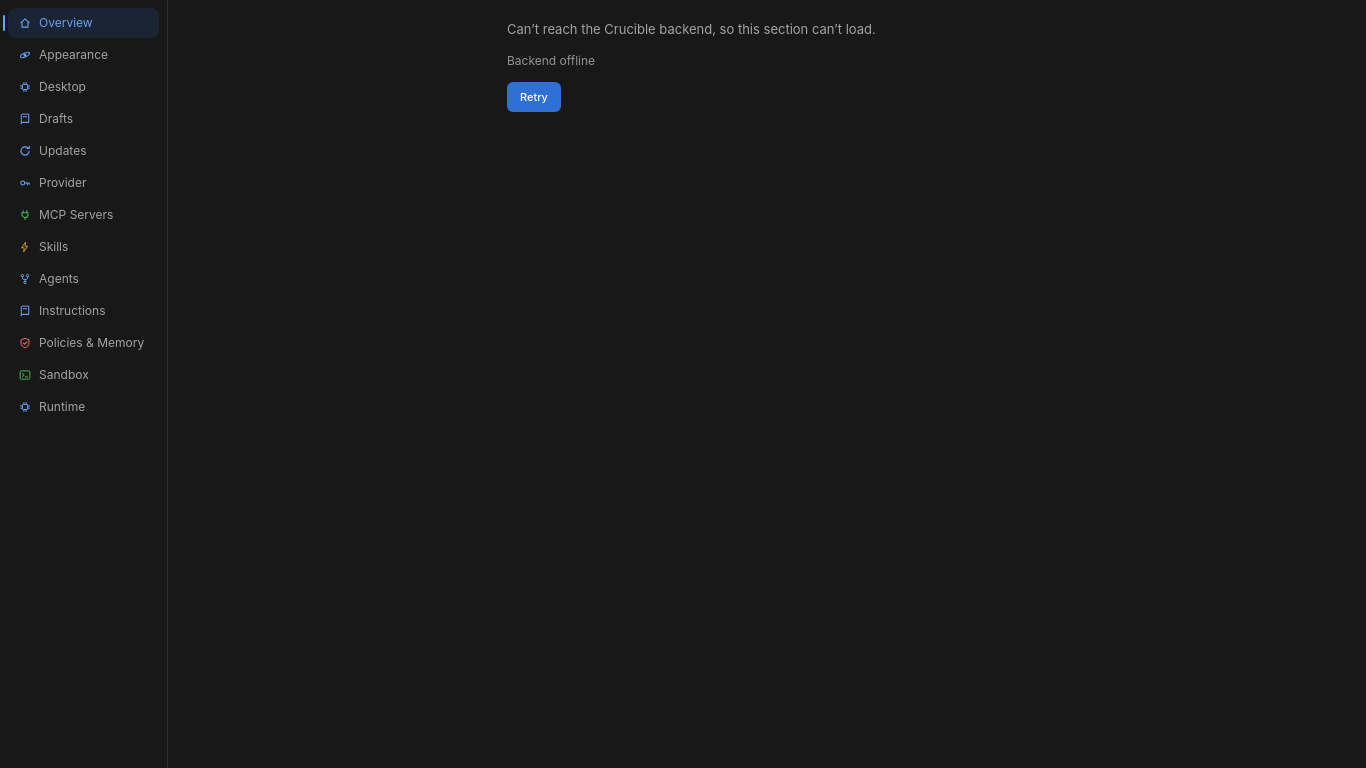
desktop draft settings placement › allows local Drafts offline and leaves VS Code unchanged
Click the button "Drafts".
click(84, 119)  # box [8,104,159,134]
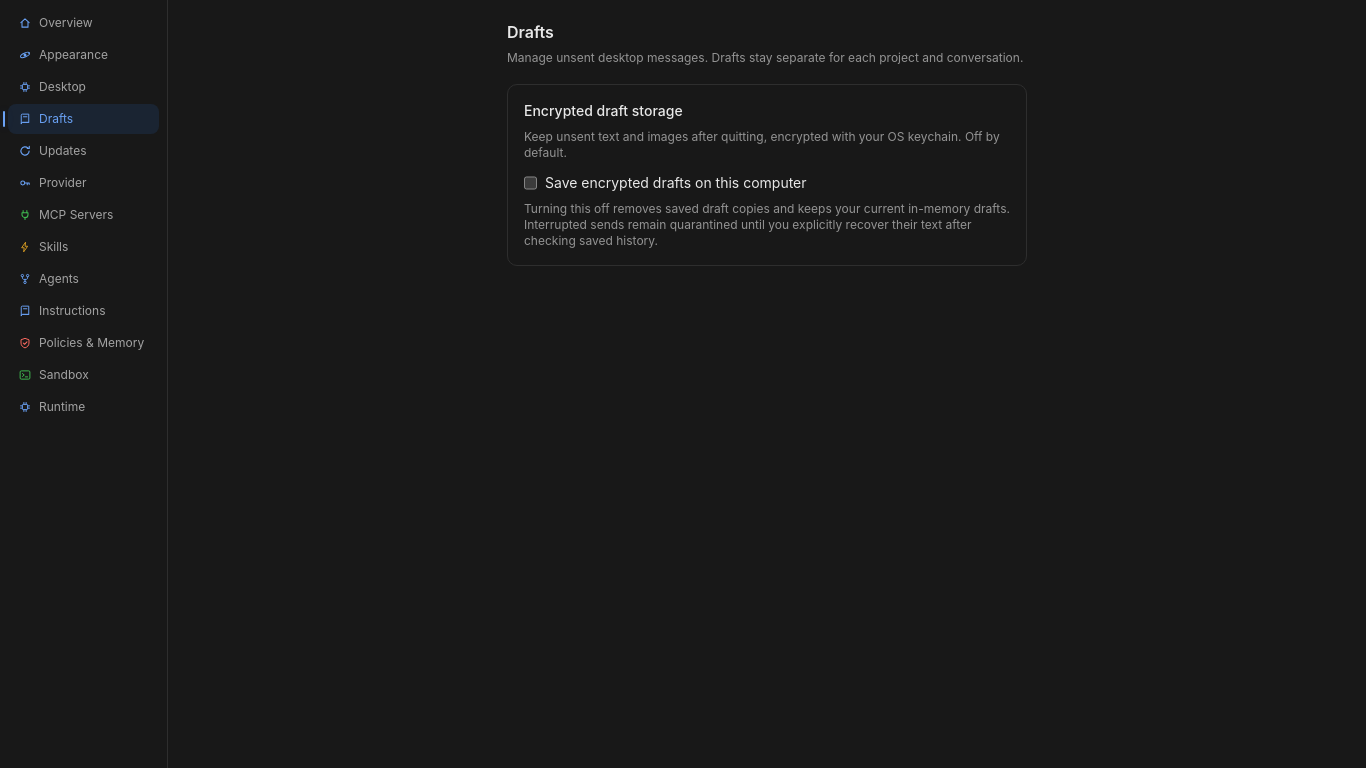
Check: the heading "Drafts" is shown, box [507,22,554,42]
Check: the text "this section can’t load" is gone
Check: the checkbox labelled "Save encrypted drafts on this computer" is enabled, box [524,172,537,192]
